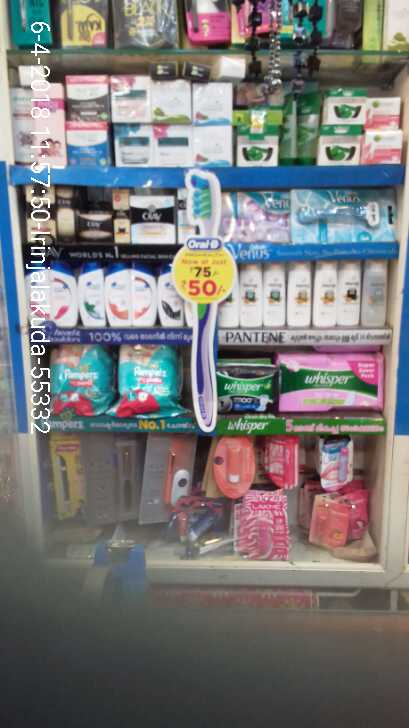venus: (291, 184, 397, 243), (218, 190, 289, 239)
